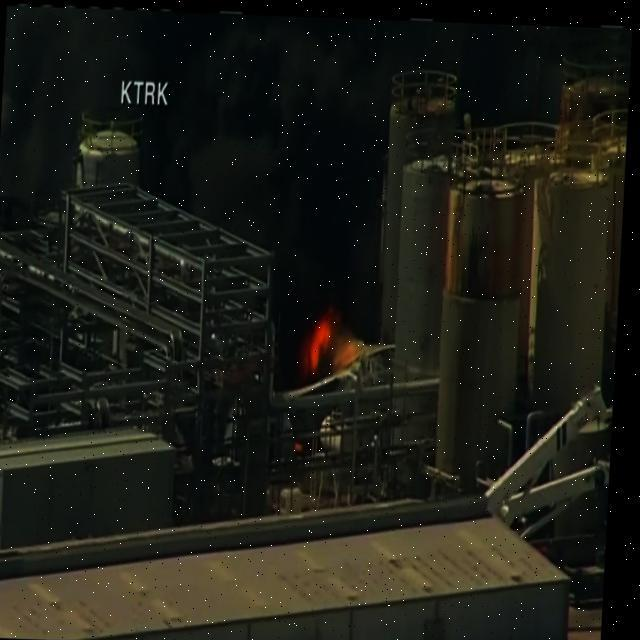Fire: (294, 285, 356, 379)
